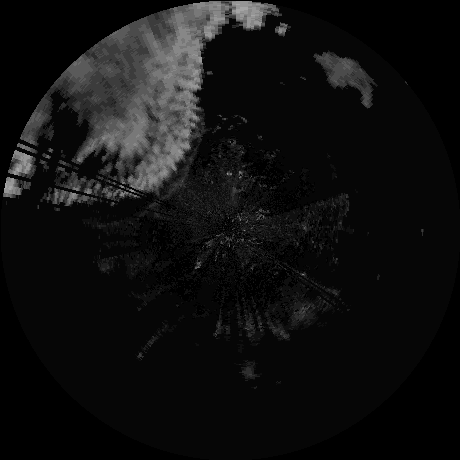frontgust: (152, 135, 200, 209)
